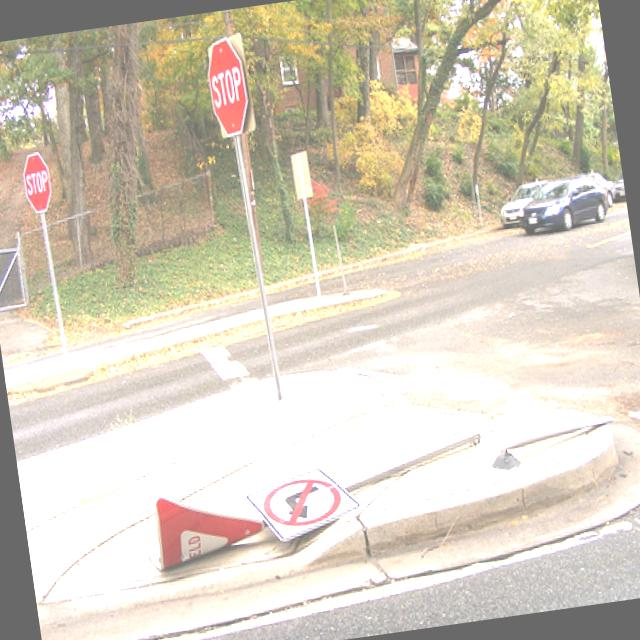Vehicle: (514, 172, 612, 238), (496, 177, 556, 228), (588, 171, 618, 209), (609, 170, 626, 202)
